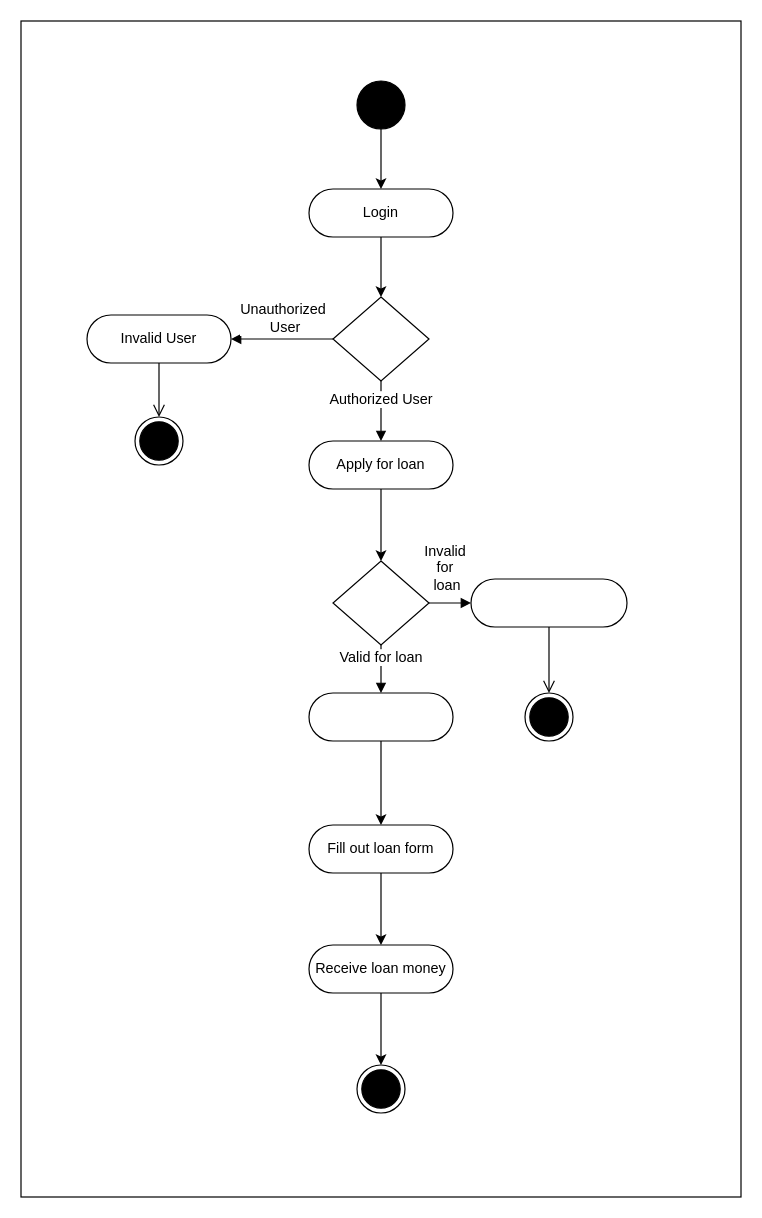
Some shapes in this 762 by 1218 pixel diagram are drawn without their labels. Each missing label, with the centre of its shape:
"Check loan details" goes at pixel 380 716.
"Not a valid member to apply for loan" goes at pixel 548 602.
